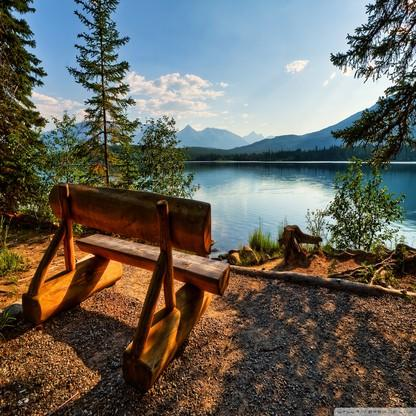obstacle: (18, 165, 231, 382)
